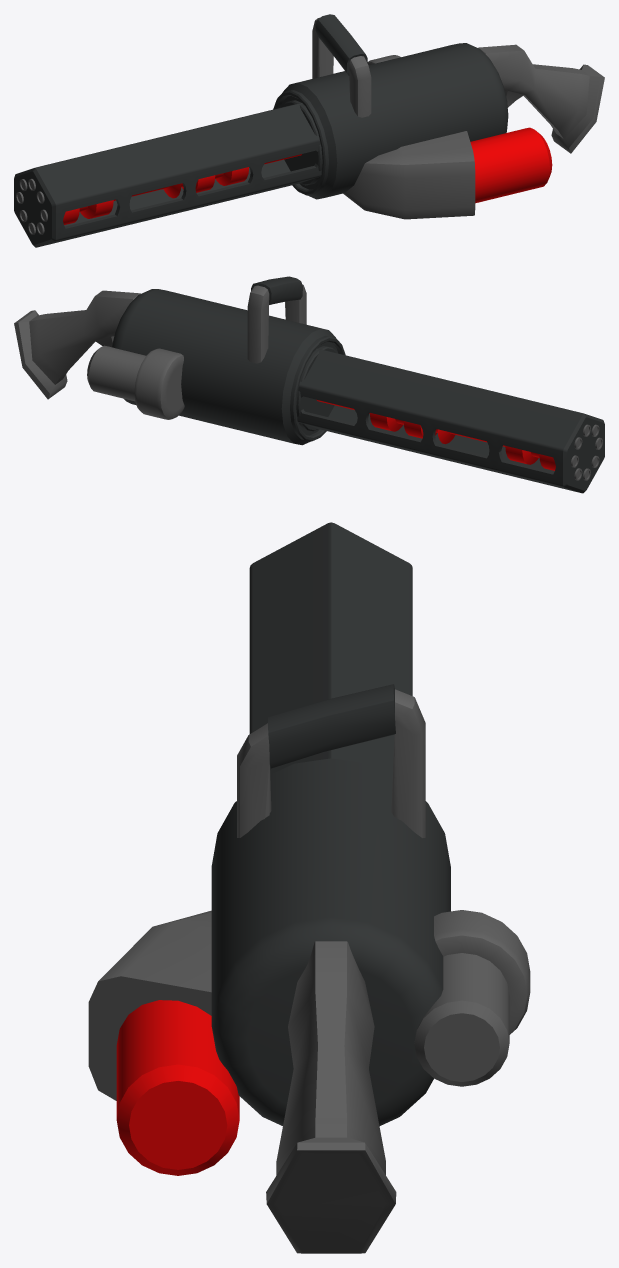
File: weapon_machineGun_model.fbx
3 views of the same model, one above another, from view 1: azimuth 30°, elevation 25°; view 2: azimuth 150°, elevation 25°; view 3: azimuth 270°, elevation 25° (orthographic). The views are drawn at different scales.
Parts seen in each view (by area): view 1: MachinGunb; view 2: MachinGunb; view 3: MachinGunb.
Part boxes in pixels (<box>): MachinGunb: <box>14,14,604,247</box>; MachinGunb: <box>14,276,604,493</box>; MachinGunb: <box>88,522,530,1253</box>.
Size of the model in its own units: 50.66 by 14.98 by 17.15.
